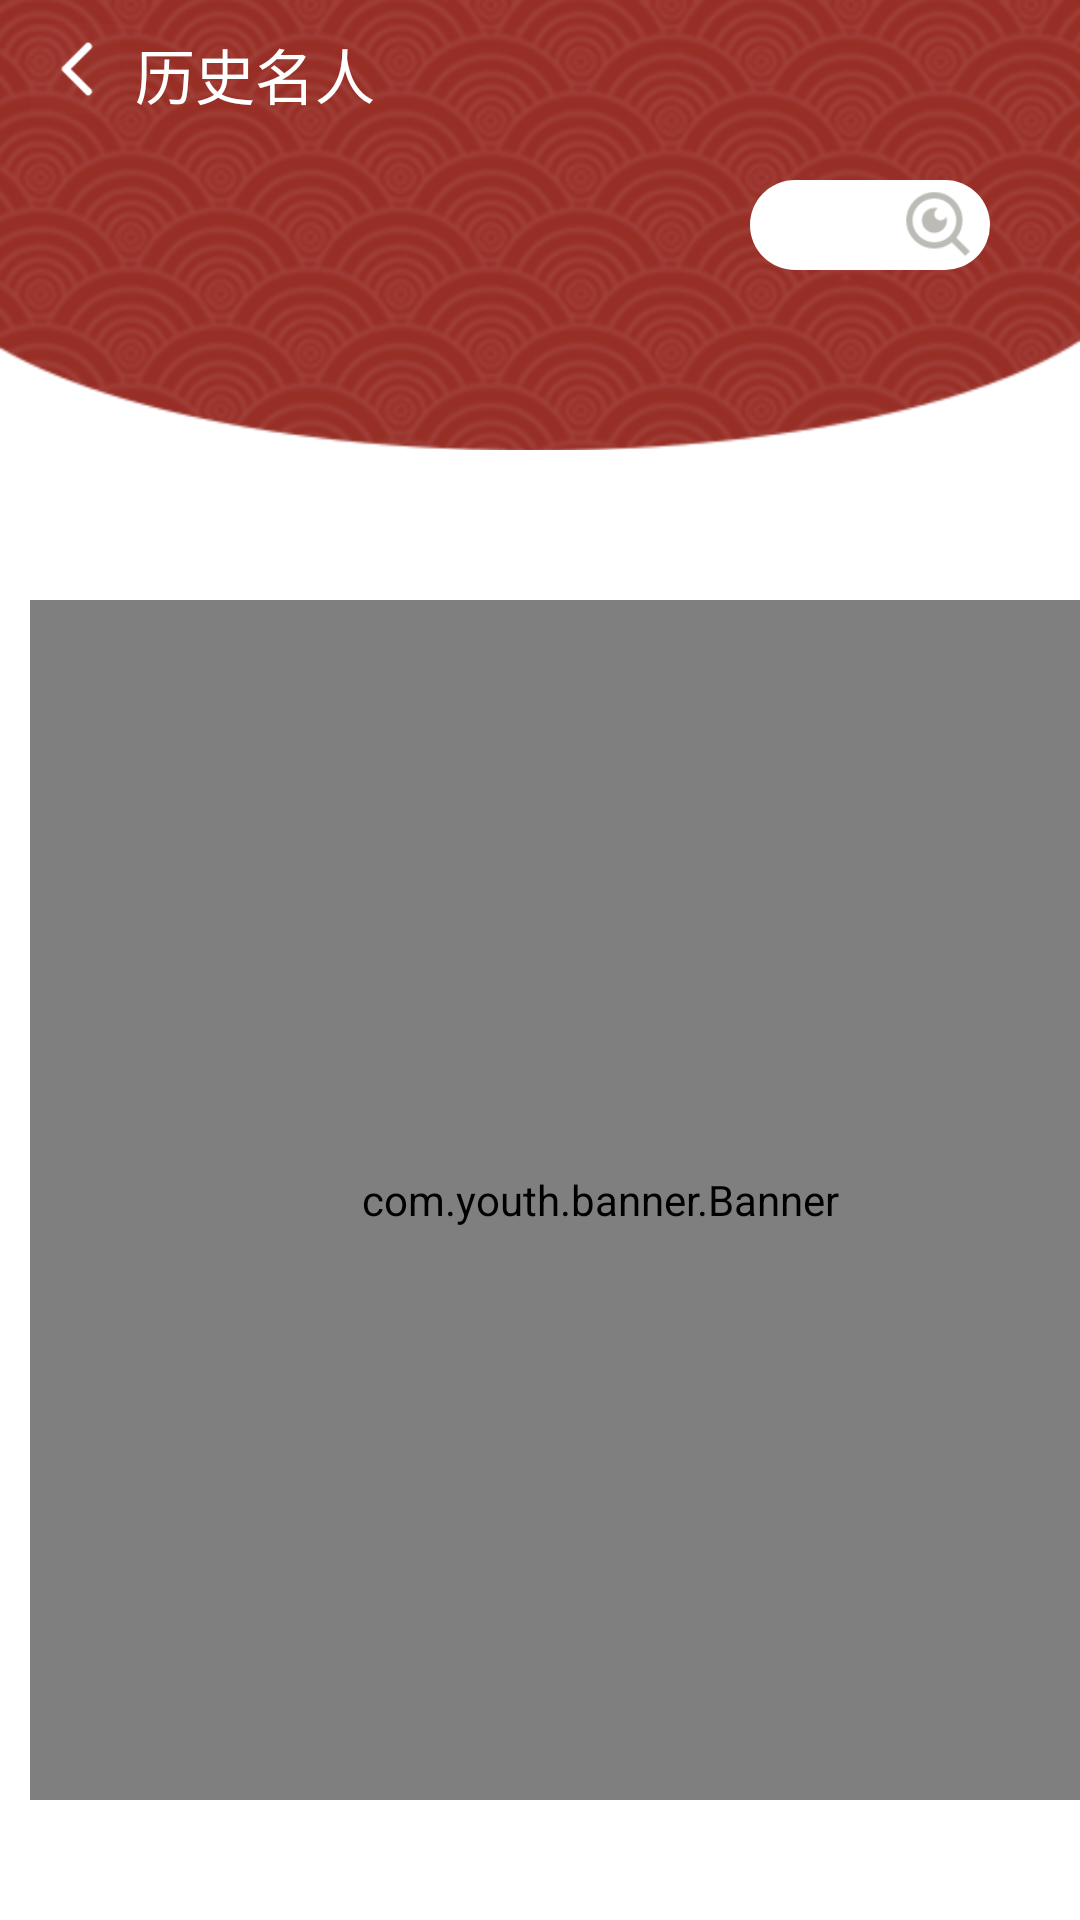

Icon click points for this 1080*1920 phone screenshot, format (x,y):
search: (938,224)
